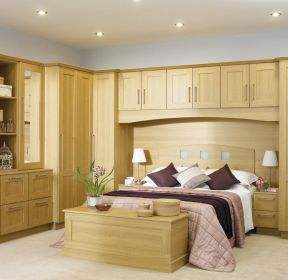床: (58, 184, 256, 269)
枕头: (142, 164, 261, 192)
灯: (259, 149, 279, 191), (130, 148, 152, 182), (92, 30, 105, 40), (269, 11, 282, 20), (173, 21, 186, 30), (34, 10, 47, 18)
